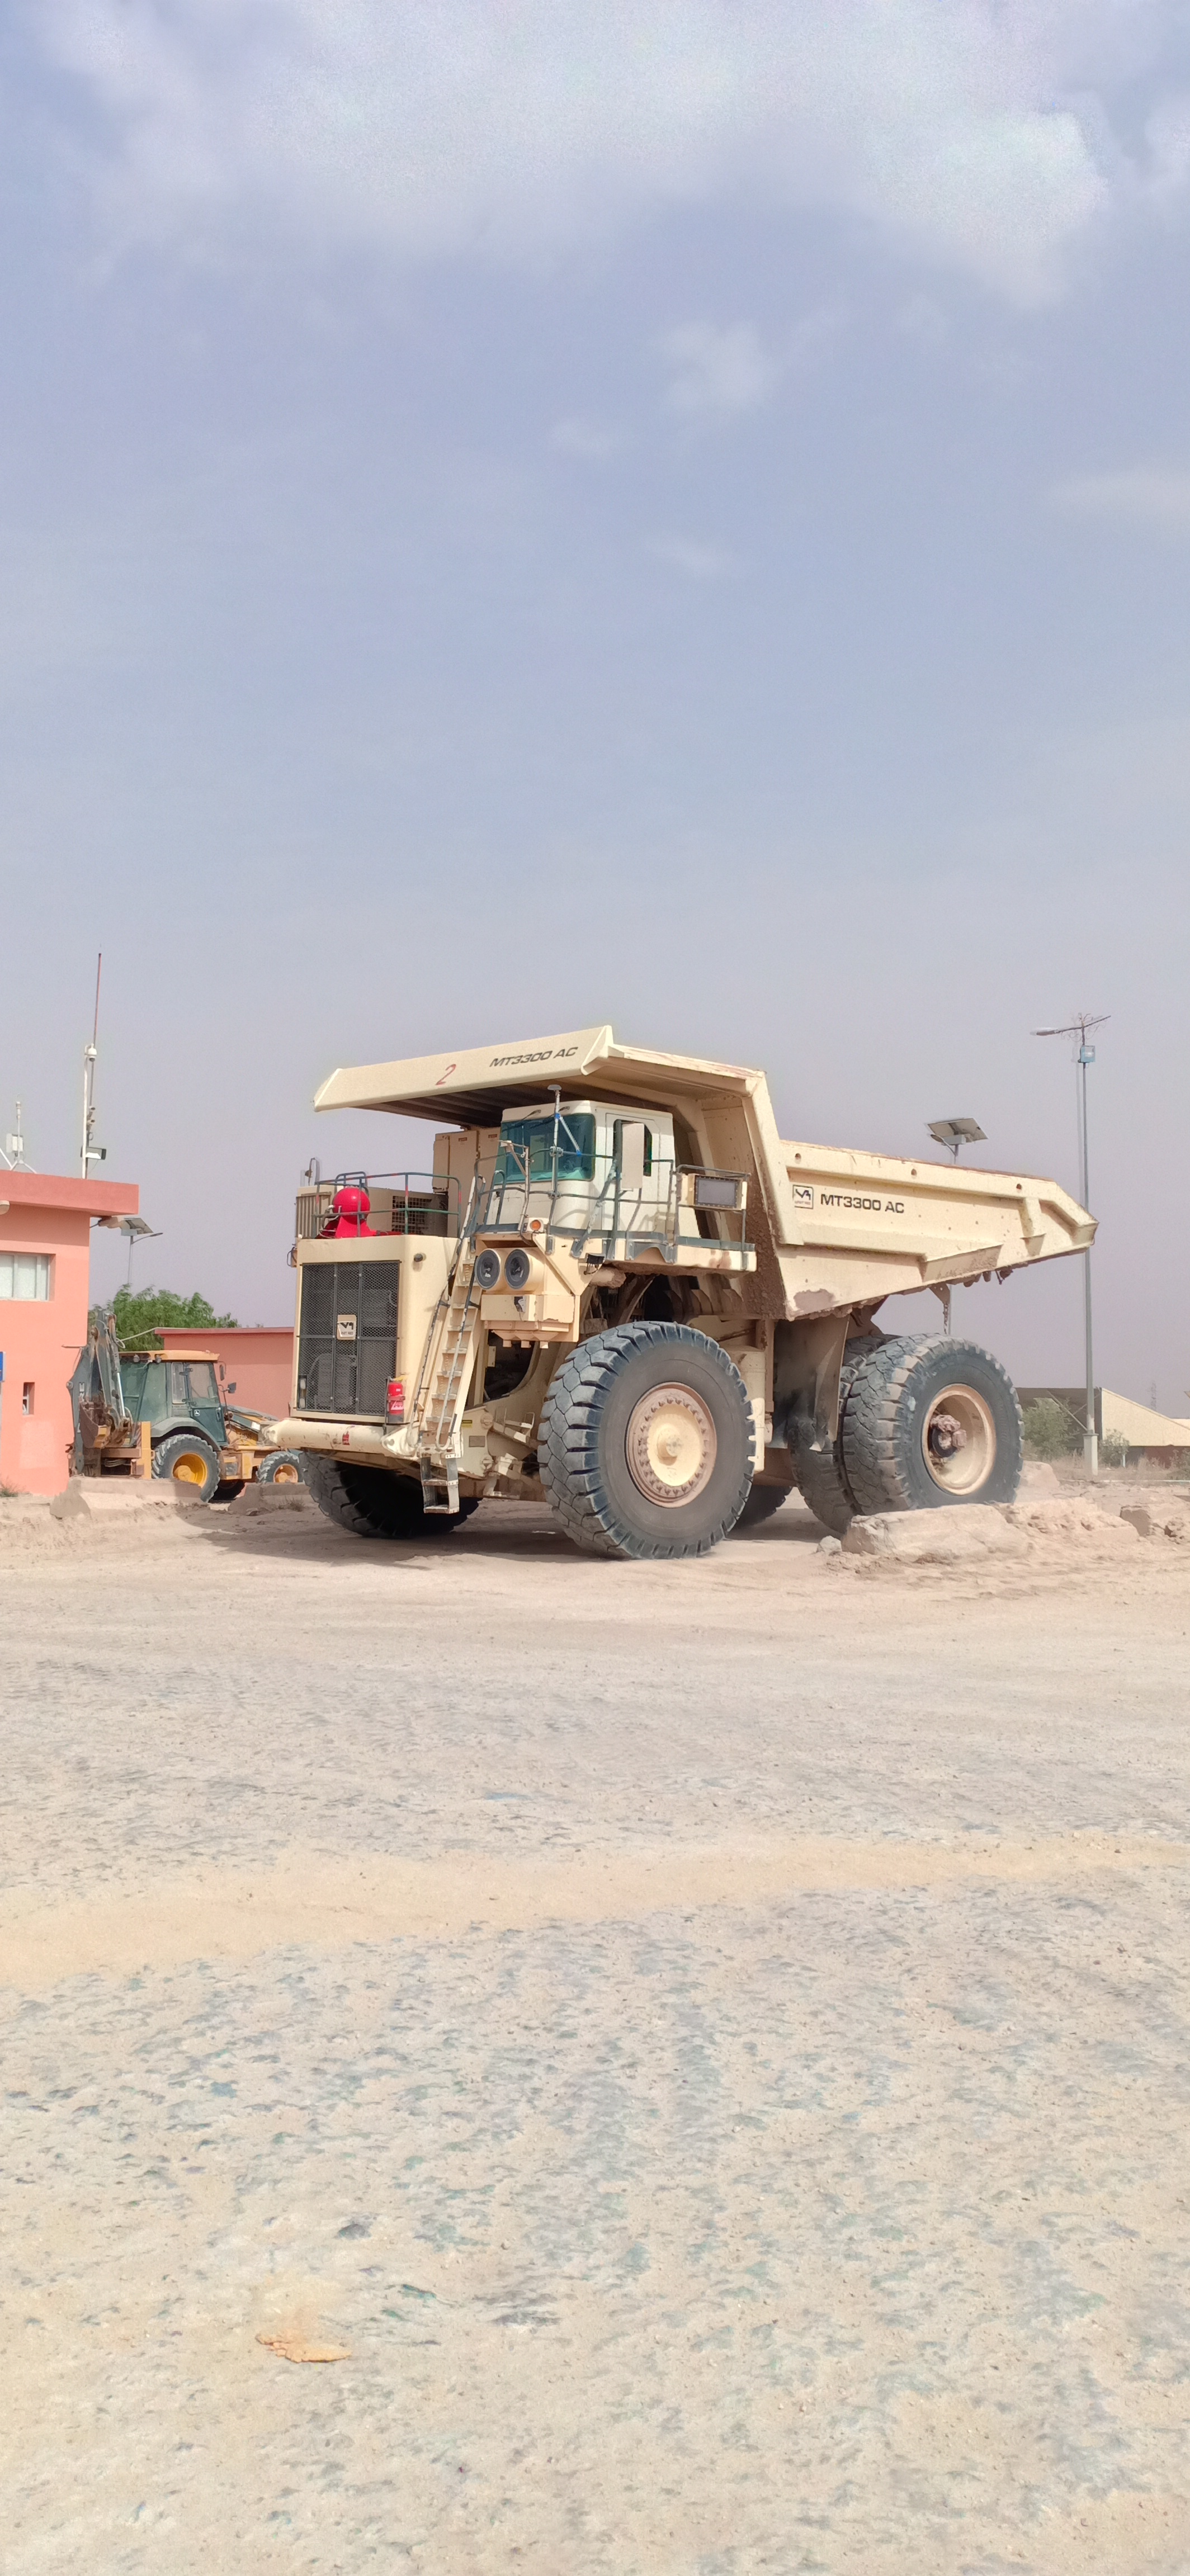camion: (238, 999, 1119, 1600)
